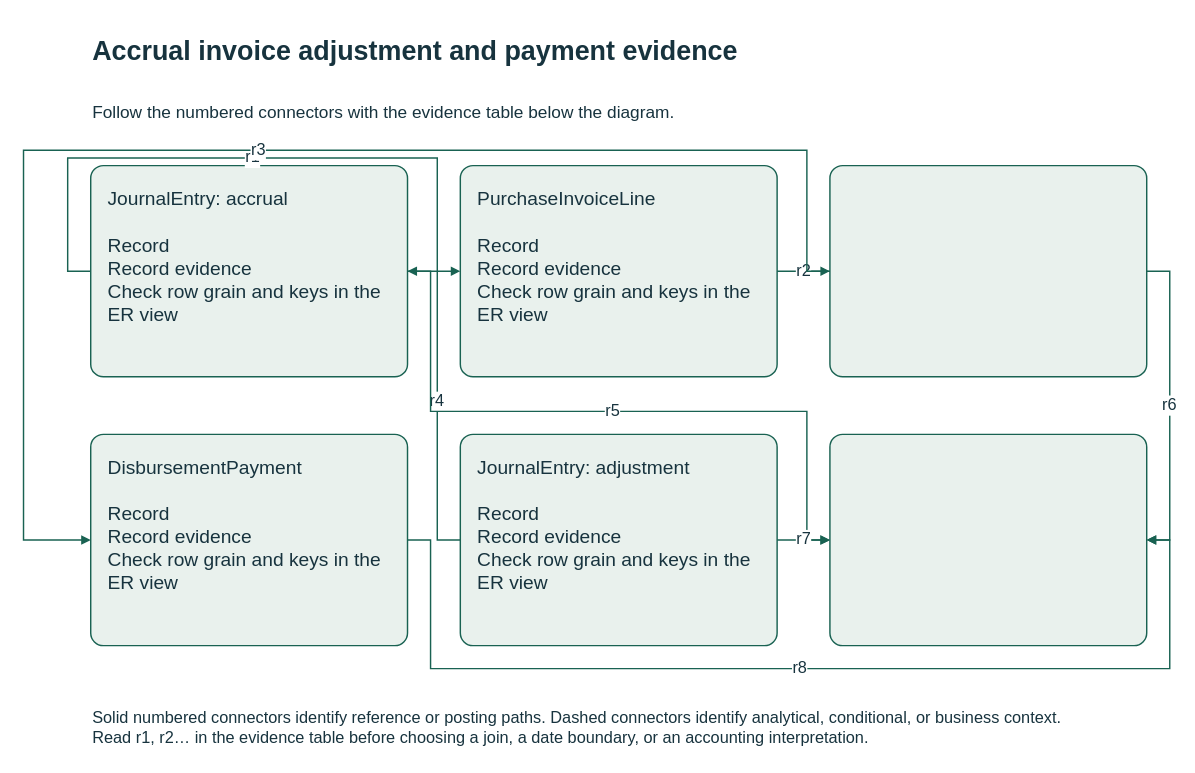
The diagram is 1195 pixels wide and 773 high, and some of its shapes have lost their labels. The shapes that lost their labels are listed below. From the top down, each one's centre as x and y in pixels, then its label:
[988,270]: PurchaseInvoice Record Record evidence Check row grain and keys in the ER view
[988,539]: GLEntry Record Record evidence Check row grain and keys in the ER view
